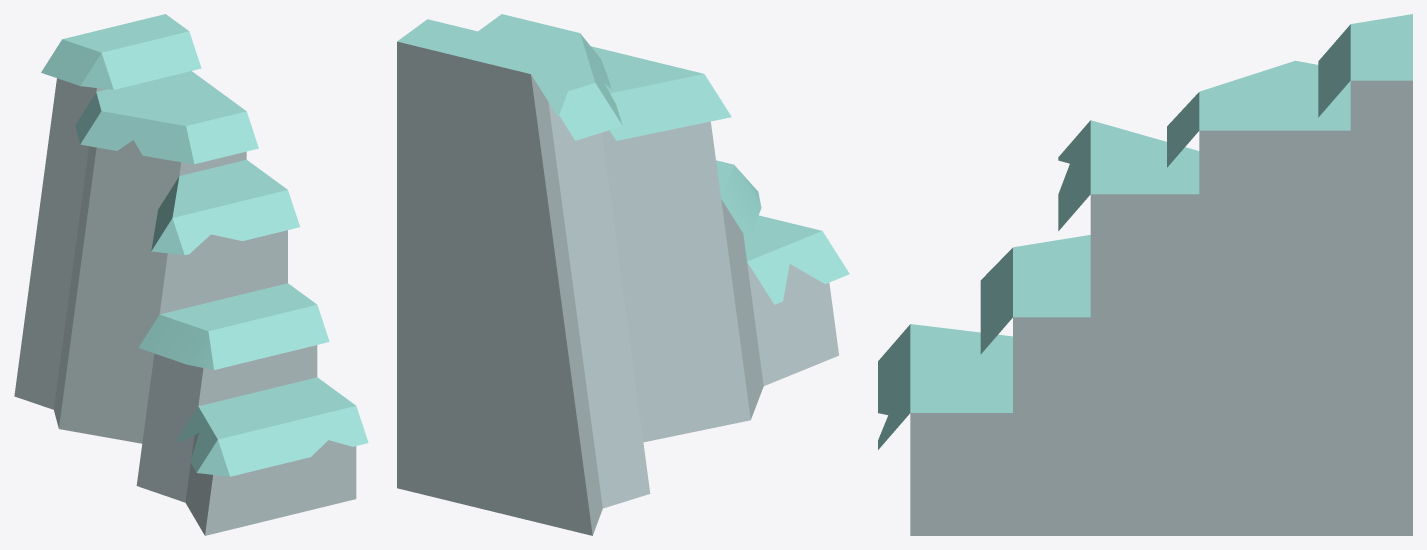
The model's file is cliffGrey_stepsEnd.glb.
3 views of the same model, side by side, from view 1: azimuth 30°, elevation 25°; view 2: azimuth 150°, elevation 25°; view 3: azimuth 270°, elevation 25° (orthographic). The views are drawn at different scales.
Parts seen in each view (by area): view 1: cliffGrey_stepsEnd; view 2: cliffGrey_stepsEnd; view 3: cliffGrey_stepsEnd.
Boxes of the visible parts, x1,y1,x2,y2 form: cliffGrey_stepsEnd: (14, 14, 368, 535); cliffGrey_stepsEnd: (397, 14, 849, 535); cliffGrey_stepsEnd: (878, 14, 1412, 535).
Bounding box in the file's own units: 0.4837 × 1 × 1.06.
